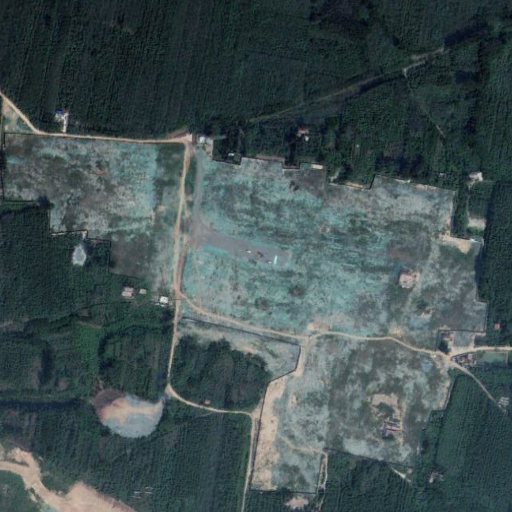cw: (7, 136, 506, 496)
